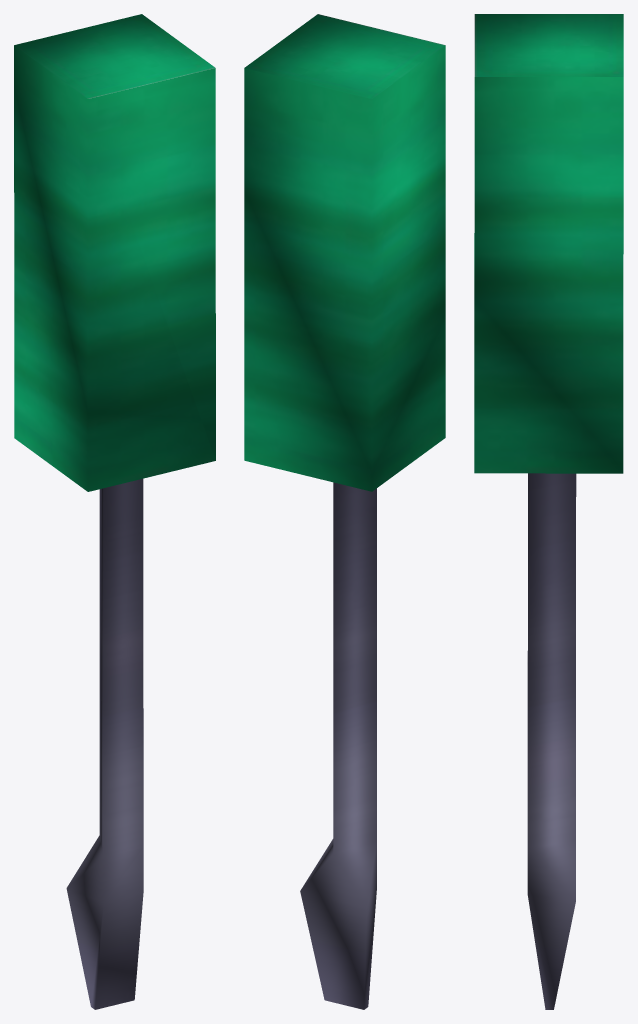
File: JoshuaPFingerle-workshopscrewdriver.glb
3 renders of one model, left to right at view 1: azimuth 30°, elevation 25°; view 2: azimuth 150°, elevation 25°; view 3: azimuth 270°, elevation 25°, orthographic.
Visible parts, largest first — view 1: 3dp_screwdriver_hi; view 2: 3dp_screwdriver_hi; view 3: 3dp_screwdriver_hi.
Boxes of the visible parts, x1,y1,x2,y2 form: 3dp_screwdriver_hi: [14, 14, 215, 1009]; 3dp_screwdriver_hi: [244, 14, 445, 1009]; 3dp_screwdriver_hi: [474, 14, 623, 1009].
Size of the model in its own units: 0.1533 by 1.09 by 0.1535.
1 material, 1 textured.
